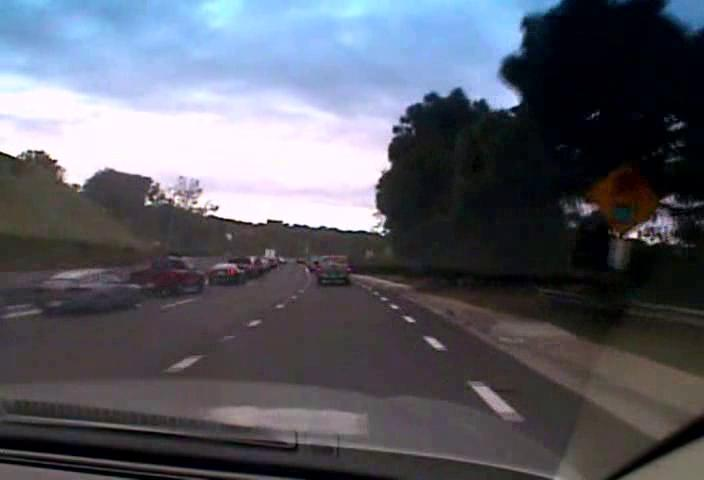signalAhead: (587, 158, 659, 235)
